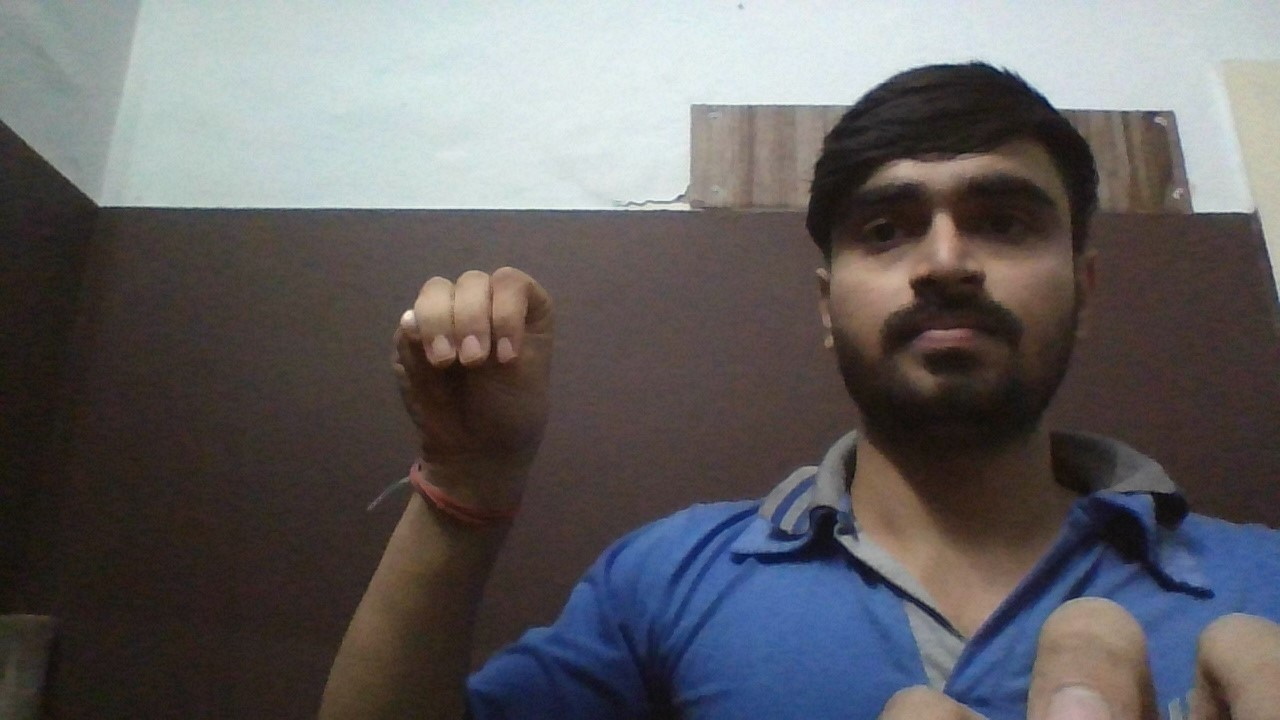M: (377, 262, 584, 472)
